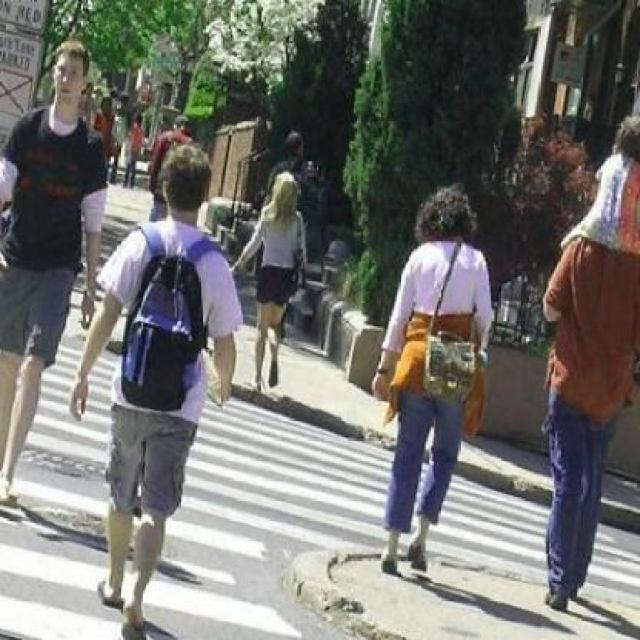obstacle: (70, 147, 241, 638), (371, 177, 494, 578), (0, 41, 103, 510), (537, 230, 638, 618), (236, 162, 310, 398), (574, 112, 638, 257)
